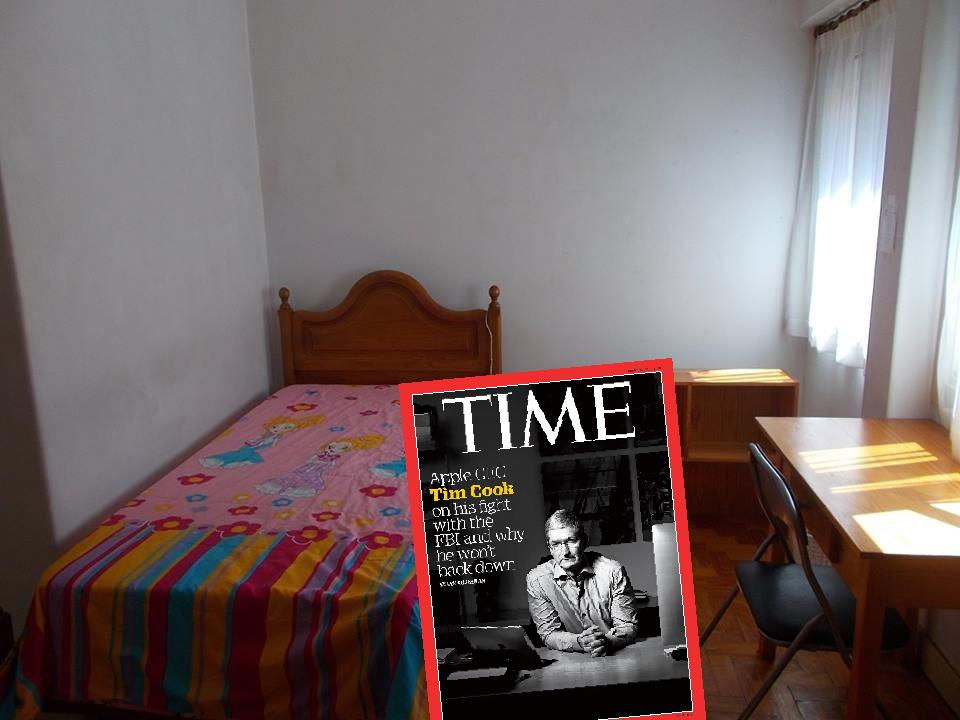times: (394, 356, 704, 720)
